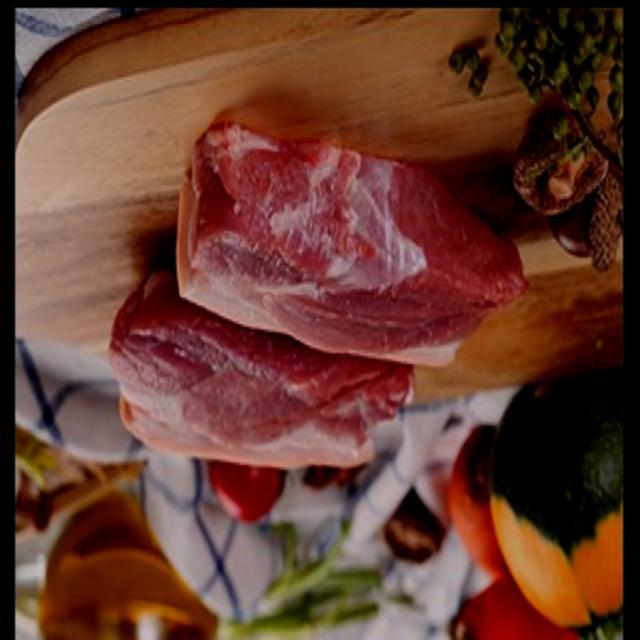pork: (167, 109, 535, 383), (107, 289, 411, 479)
